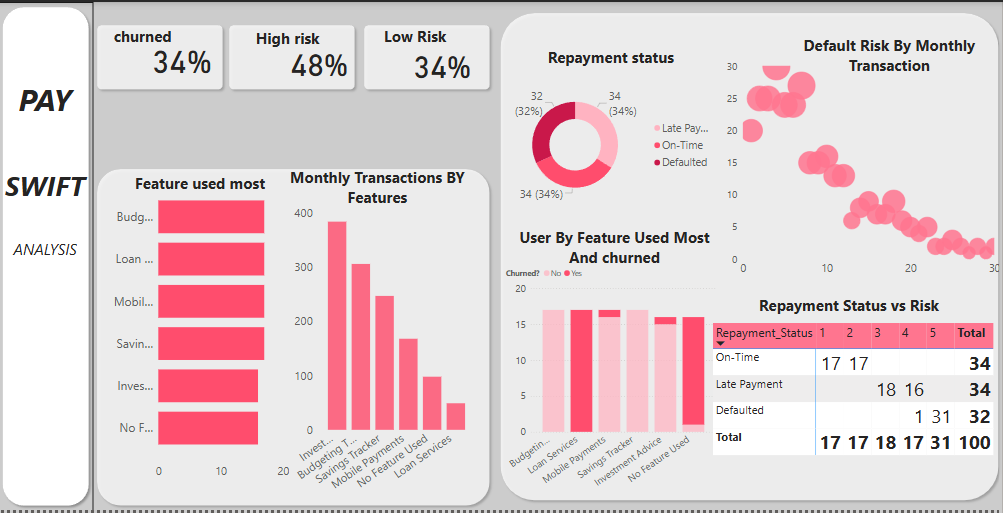

The page's visual inventory and layout, read from the dashboard file:
{"tool":"powerbi","page":{"name":"Page 1","canvas":[1800,900],"ordinal":0},"visuals":[{"type":"shape","box":[17.3,0,170.8,901.2],"z":0},{"type":"shape","box":[900,9.4,900,881.1],"z":1000},{"type":"shape","box":[186.6,30.7,240.9,132.3],"z":2000},{"type":"shape","box":[420.5,30.7,240.9,132.3],"z":3000},{"type":"shape","box":[659.1,30.7,240.9,132.3],"z":4000},{"type":"shape","box":[186.6,285.8,713.4,614.2],"z":5000},{"type":"clusteredBarChart","fields":{"Category":["payswiftt.Feature_Used_Most"],"Y":["CountNonNull(payswiftt.User_ID)"]},"box":[207.9,309.4,333.1,545.7],"z":6000},{"type":"clusteredColumnChart","fields":{"Y":["Sum(payswiftt.Monthly_Transactions)"],"Category":["payswiftt.Feature_Used_Most"]},"box":[536.2,354.3,333.1,545.7],"z":7000},{"type":"donutChart","fields":{"Category":["payswiftt.Repayment_Status"],"Y":["CountNonNull(payswiftt.User_ID)"]},"box":[897.6,44.9,406.3,415.7],"z":8000},{"type":"columnChart","fields":{"Category":["payswiftt.Feature_Used_Most"],"Series":["payswiftt.Churned?"],"Y":["CountNonNull(payswiftt.User_ID)"]},"box":[914.2,460.6,382.7,415.7],"z":9000},{"type":"scatterChart","fields":{"Y":["Sum(payswiftt.Default_Risk(1-5))"],"X":["payswiftt.Monthly_Transactions"],"Size":["CountNonNull(payswiftt.User_ID)"]},"box":[1303.9,96.9,496.1,399.2],"z":10000},{"type":"pivotTable","fields":{"Rows":["payswiftt.Repayment_Status"],"Columns":["payswiftt.Default_Risk(1-5)"],"Values":["CountNonNull(payswiftt.User_ID)"]},"box":[1280.3,562.2,519.7,292.9],"z":11000},{"type":"cardVisual","fields":{"Data":["payswiftt.High Risk %"]},"box":[522,18.9,224.4,177.2],"z":12000},{"type":"cardVisual","fields":{"Data":["payswiftt.Churned %"]},"box":[264.6,44.9,160.6,111],"z":13000},{"type":"cardVisual","fields":{"Data":["payswiftt.Low Risk Users"]},"box":[739.4,42.5,160.6,134.6],"z":14000},{"type":"textbox","box":[661.4,37.8,193.7,70.9],"z":15000},{"type":"textbox","box":[207.9,37.8,137,49.6],"z":16000},{"type":"textbox","box":[17.3,131.2,168.4,94.1],"z":17000},{"type":"textbox","box":[484.3,288.2,415.7,172.4],"z":18000},{"type":"textbox","box":[729.9,73.2,748.8,115.7],"z":19000},{"type":"textbox","box":[928.3,394.5,368.5,82.7],"z":20000},{"type":"textbox","box":[435.2,40.7,193.7,70.9],"z":21000},{"type":"textbox","box":[1398.4,52,401.6,115.7],"z":22000},{"type":"textbox","box":[1254.3,512.6,545.7,115.7],"z":23000},{"type":"textbox","box":[239.1,298.2,276.4,80.3],"z":24000},{"type":"textbox","box":[17.3,287.2,168.4,148.6],"z":25000},{"type":"textbox","box":[17.3,413.5,168.4,99],"z":26000}]}

Visuals, with their boxes in screenshot pixels (x1, y1, x2, y2), scaled from the page's 1800x900 canvas onto the 1003x513 screenshot:
shape: [x1=10, y1=0, x2=105, y2=512]
shape: [x1=501, y1=5, x2=1002, y2=508]
shape: [x1=104, y1=17, x2=238, y2=93]
shape: [x1=234, y1=17, x2=369, y2=93]
shape: [x1=367, y1=17, x2=501, y2=93]
shape: [x1=104, y1=163, x2=501, y2=512]
clusteredBarChart - payswiftt.Feature_Used_Most x CountNonNull(payswiftt.User_ID): [x1=116, y1=176, x2=301, y2=487]
clusteredColumnChart - Sum(payswiftt.Monthly_Transactions) x payswiftt.Feature_Used_Most: [x1=299, y1=202, x2=484, y2=512]
donutChart - payswiftt.Repayment_Status x CountNonNull(payswiftt.User_ID): [x1=500, y1=26, x2=727, y2=263]
columnChart - payswiftt.Feature_Used_Most x payswiftt.Churned?: [x1=509, y1=263, x2=723, y2=499]
scatterChart - Sum(payswiftt.Default_Risk(1-5)) x payswiftt.Monthly_Transactions: [x1=727, y1=55, x2=1002, y2=283]
pivotTable - payswiftt.Repayment_Status x payswiftt.Default_Risk(1-5): [x1=713, y1=320, x2=1002, y2=487]
cardVisual - payswiftt.High Risk %: [x1=291, y1=11, x2=416, y2=112]
cardVisual - payswiftt.Churned %: [x1=147, y1=26, x2=237, y2=89]
cardVisual - payswiftt.Low Risk Users: [x1=412, y1=24, x2=501, y2=101]
textbox: [x1=369, y1=22, x2=476, y2=62]
textbox: [x1=116, y1=22, x2=192, y2=50]
textbox: [x1=10, y1=75, x2=103, y2=128]
textbox: [x1=270, y1=164, x2=501, y2=263]
textbox: [x1=407, y1=42, x2=824, y2=108]
textbox: [x1=517, y1=225, x2=723, y2=272]
textbox: [x1=243, y1=23, x2=350, y2=64]
textbox: [x1=779, y1=30, x2=1002, y2=96]
textbox: [x1=699, y1=292, x2=1002, y2=358]
textbox: [x1=133, y1=170, x2=287, y2=216]
textbox: [x1=10, y1=164, x2=103, y2=248]
textbox: [x1=10, y1=236, x2=103, y2=292]
